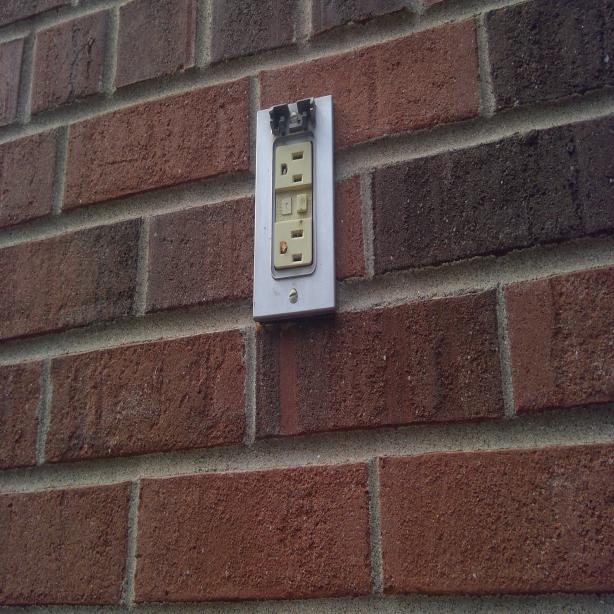typeb: (274, 143, 313, 191), (274, 221, 311, 266)
